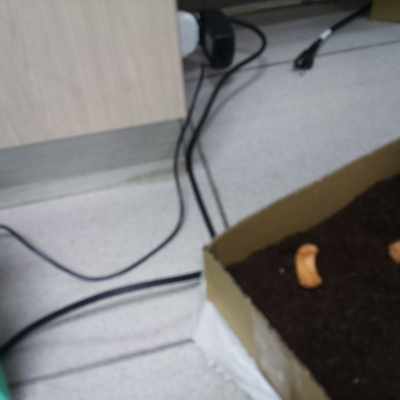eggs: (287, 237, 325, 298), (384, 237, 400, 265)
